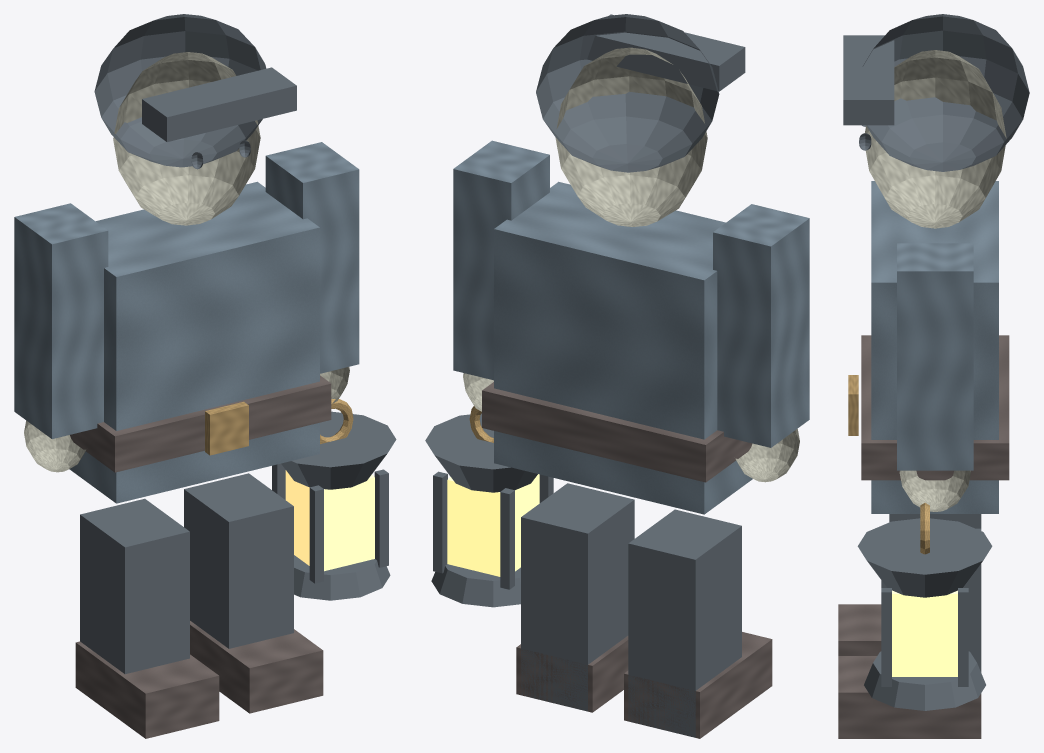
Rendered from lantern-watch-lantern-guard-figure__81.glb.
3 views of the same model, side by side, from view 1: azimuth 30°, elevation 25°; view 2: azimuth 150°, elevation 25°; view 3: azimuth 270°, elevation 25° (orthographic). The views are drawn at different scales.
Parts seen in each view (by area): view 1: lantern-watch-watch-guard; view 2: lantern-watch-watch-guard; view 3: lantern-watch-watch-guard.
Boxes of the visible parts, box(x1,y1,x2,y2) form: lantern-watch-watch-guard: box(14, 14, 396, 738); lantern-watch-watch-guard: box(425, 14, 809, 738); lantern-watch-watch-guard: box(838, 14, 1029, 738).
Bounding box in the file's own units: 0.817 × 1.45 × 0.375.
6 materials, 4 textured.
